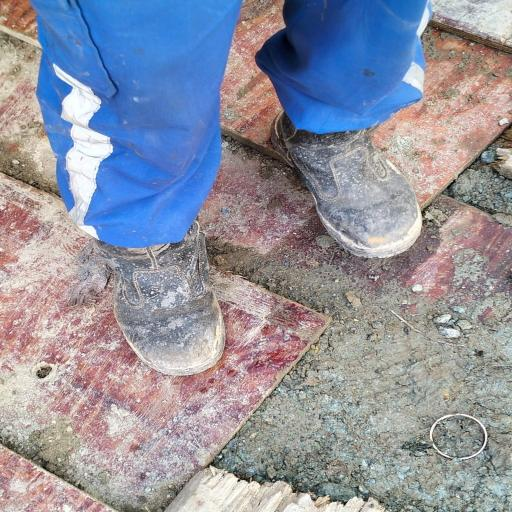safety_shoe: (271, 108, 432, 258), (99, 217, 226, 378)
